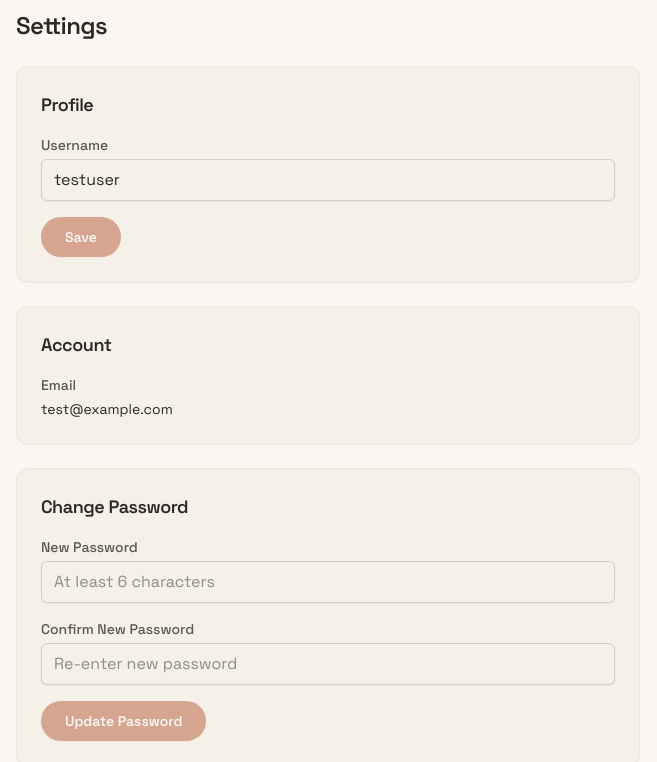
Scenario: SettingsPage › shows success message after saving
This screenshot has width=657, height=762.
Replace the text in the field labelled "Username" with "newname" at point(328, 180), box [41,159,615,201]
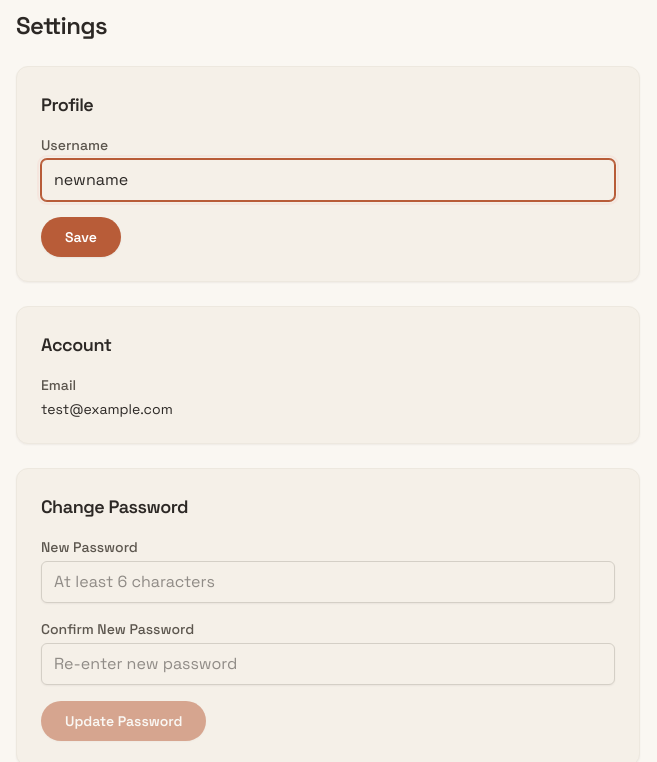
Click the button "Save" at point(81, 237), box [41,217,121,257]
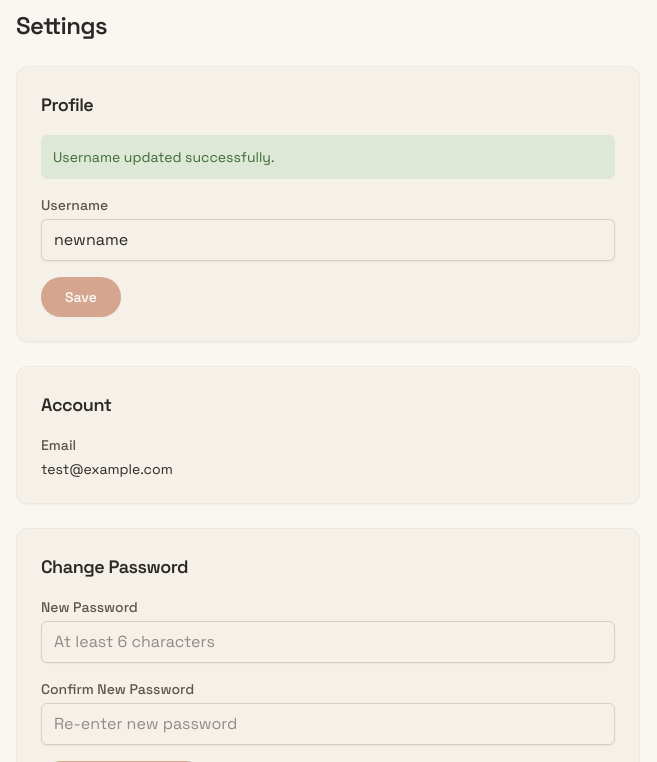
Result: the text "Username updated successfully." is shown at [41,135,615,179]
